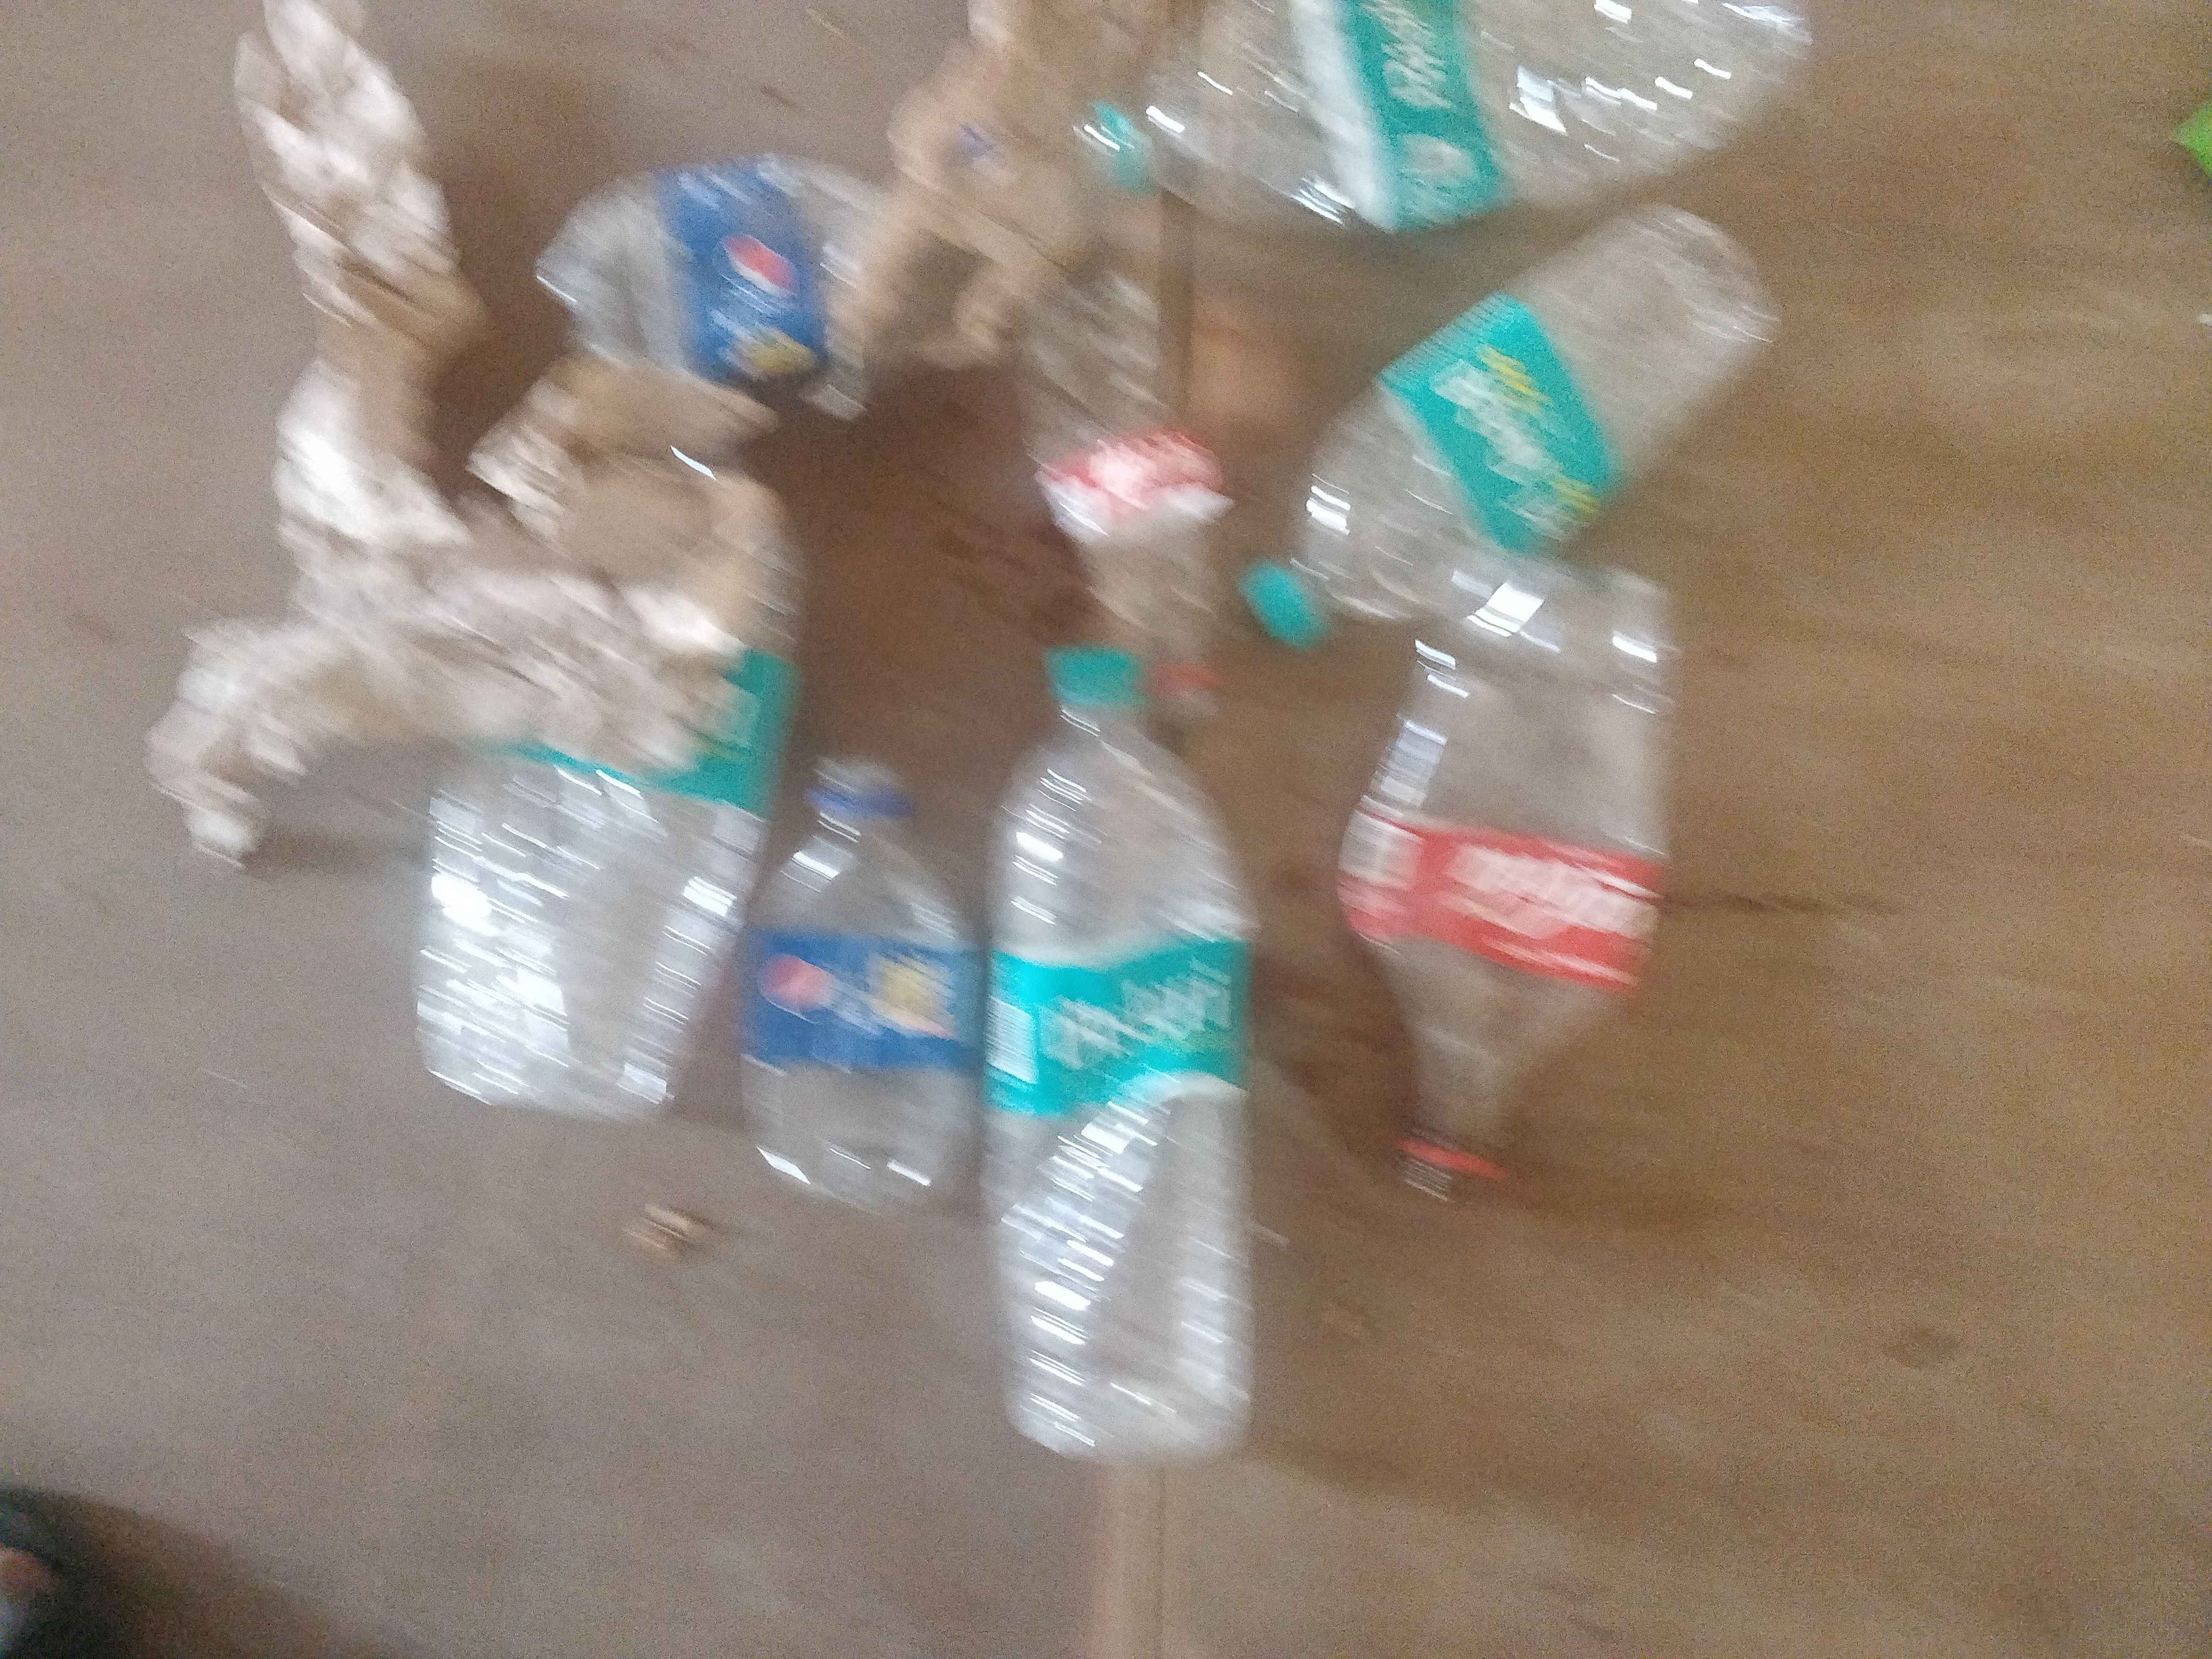Bisleri: (1442, 328, 1622, 514), (996, 964, 1245, 1091), (1364, 0, 1505, 221), (681, 648, 794, 788)
Coca-Cola: (1388, 798, 1656, 985), (1061, 429, 1231, 505)
pepsi: (669, 160, 826, 380), (737, 939, 984, 1060)
